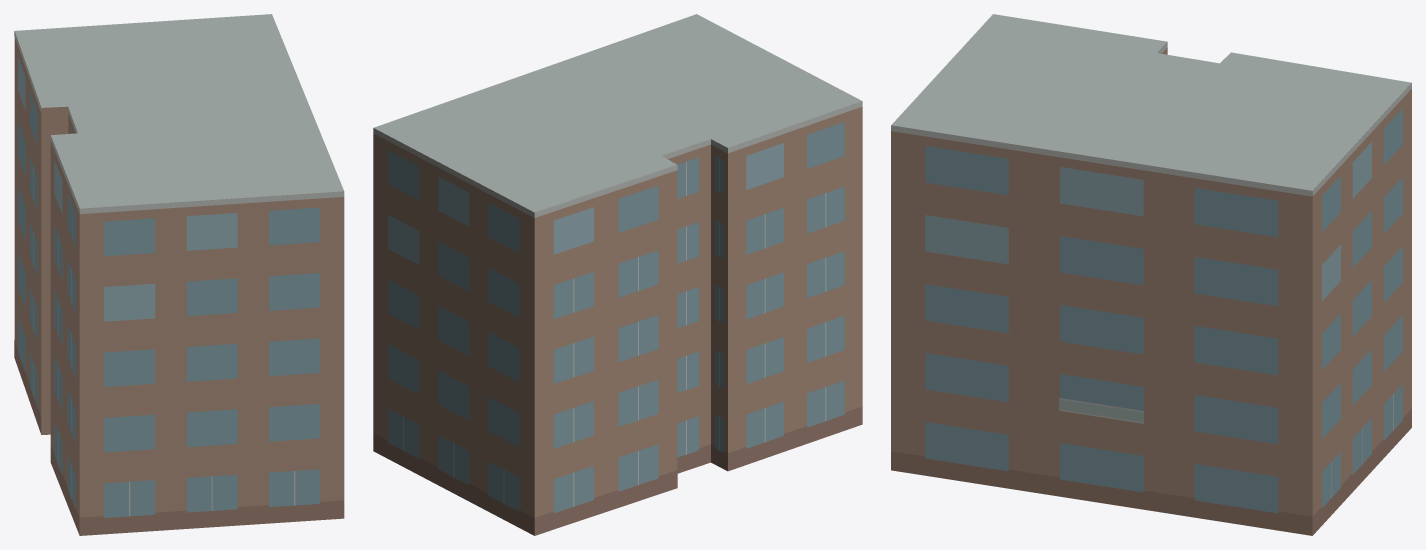
The model's file is survey-upis-32951057.glb.
The picture shows the model from 3 angles, left to right: view 1: azimuth 30°, elevation 25°; view 2: azimuth 150°, elevation 25°; view 3: azimuth 270°, elevation 25°; orthographic projection. The views are drawn at different scales.
Visible parts, largest first — view 1: survey-upis-32951057.tmp; view 2: survey-upis-32951057.tmp; view 3: survey-upis-32951057.tmp.
Boxes of the visible parts, x1,y1,x2,y2 form: survey-upis-32951057.tmp: (14,14,344,535); survey-upis-32951057.tmp: (373,14,862,535); survey-upis-32951057.tmp: (891,14,1411,535).
Bounding box in the file's own units: 15.95 × 14.5 × 19.84.
